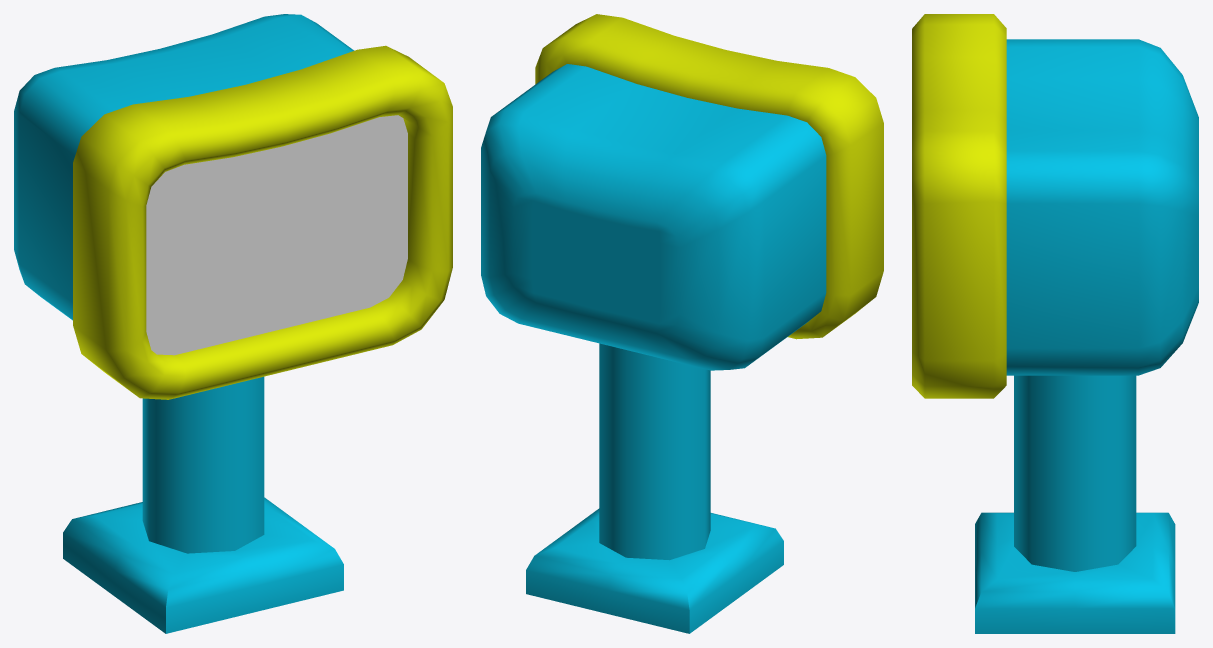
3 views of the same model, side by side, from view 1: azimuth 30°, elevation 25°; view 2: azimuth 150°, elevation 25°; view 3: azimuth 270°, elevation 25° (orthographic). The views are drawn at different scales.
Parts seen in each view (by area): view 1: Cube.001; view 2: Cube.001; view 3: Cube.001.
Boxes of the visible parts, x1,y1,x2,y2 form: Cube.001: (14,14,452,633); Cube.001: (481,14,883,633); Cube.001: (912,14,1198,633).
Bounding box in the file's own units: 154 × 226 × 115.
